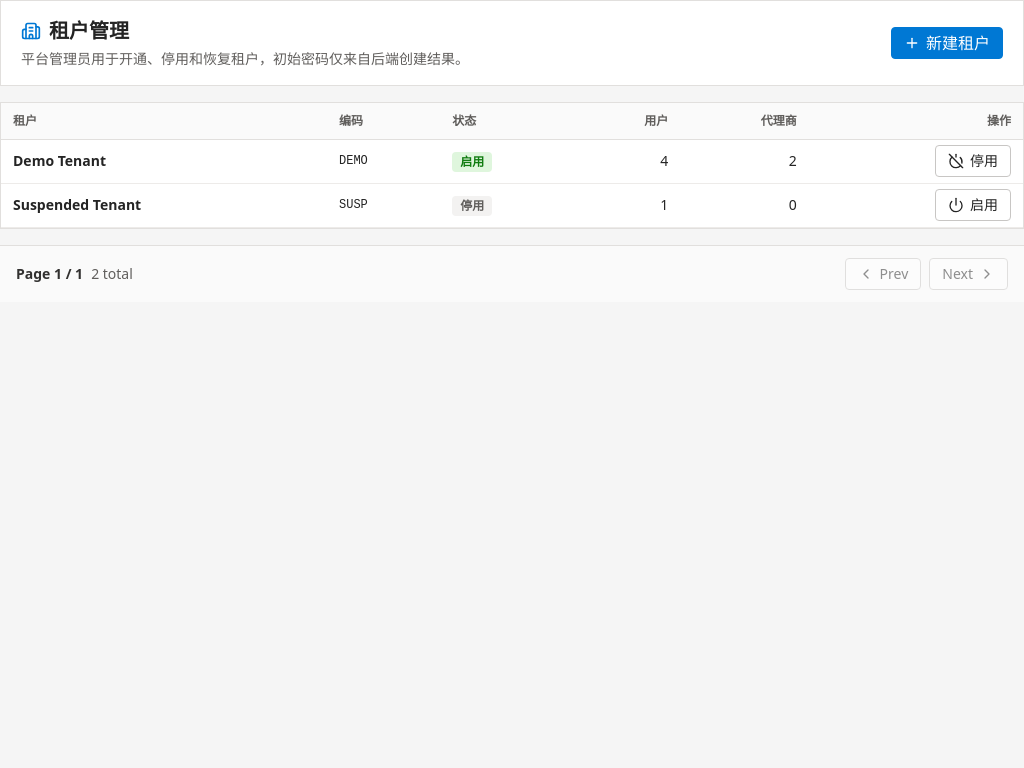
Scenario: TenantManagement › creates a tenant with trimmed payload and shows the generated initial password
expect the text "Demo Tenant" is shown: met, box [1,139,327,183]
Click the button "新建租户" at (947, 43), box [891,27,1003,59]
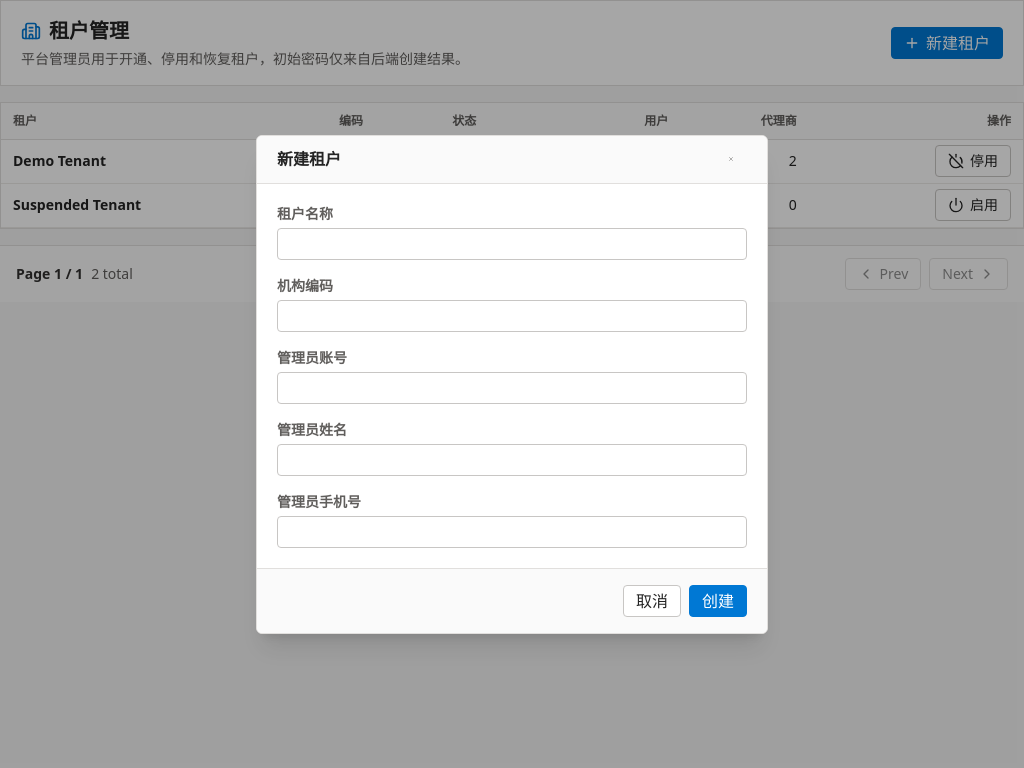
Type " New Tenant " into the field labelled "租户名称" at (512, 244), box [277,228,747,260]
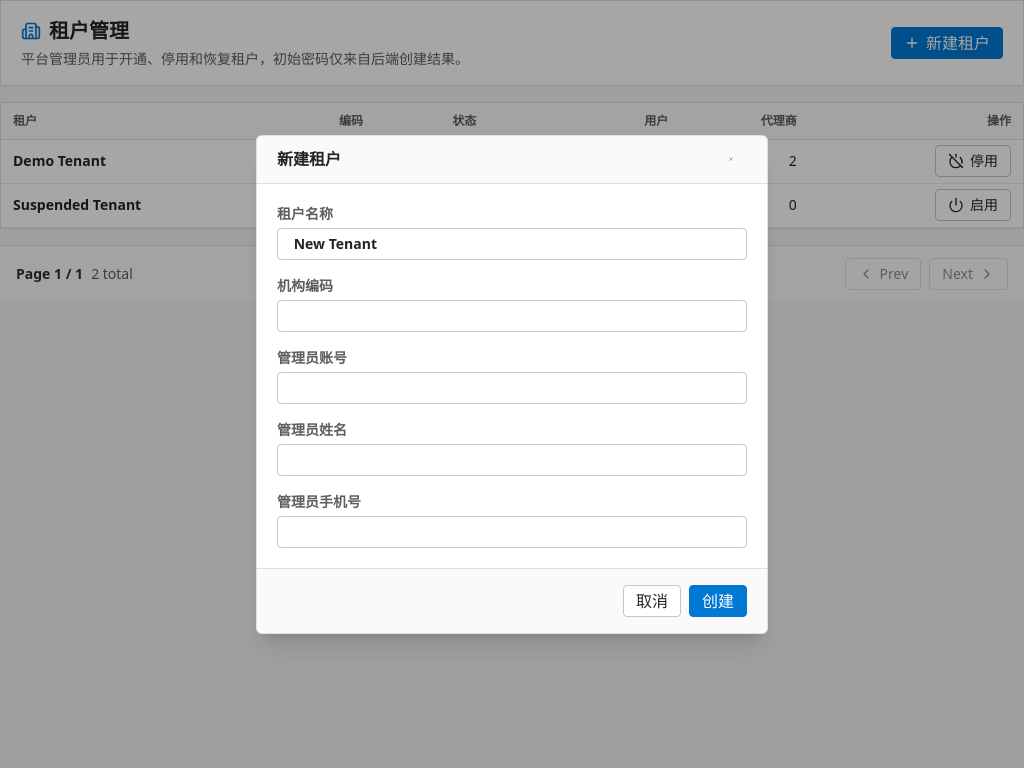
Type " NEW " into the field labelled "机构编码" at (512, 316), box [277,300,747,332]
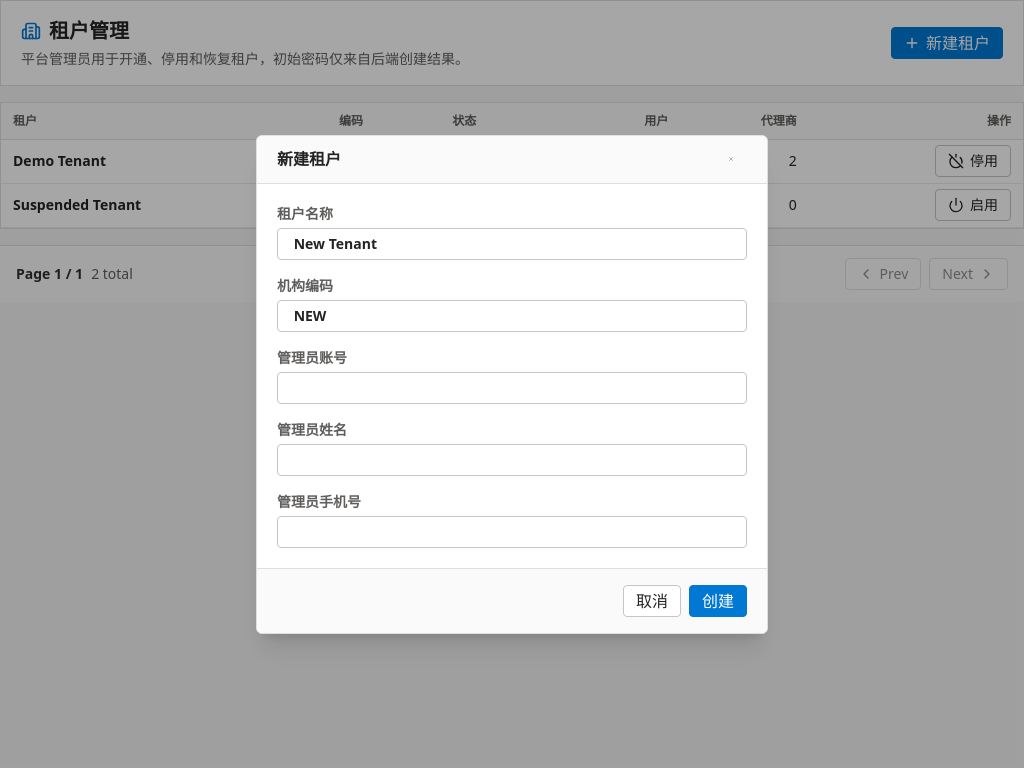
Type " admin " into the field labelled "管理员账号" at (512, 388), box [277,372,747,404]
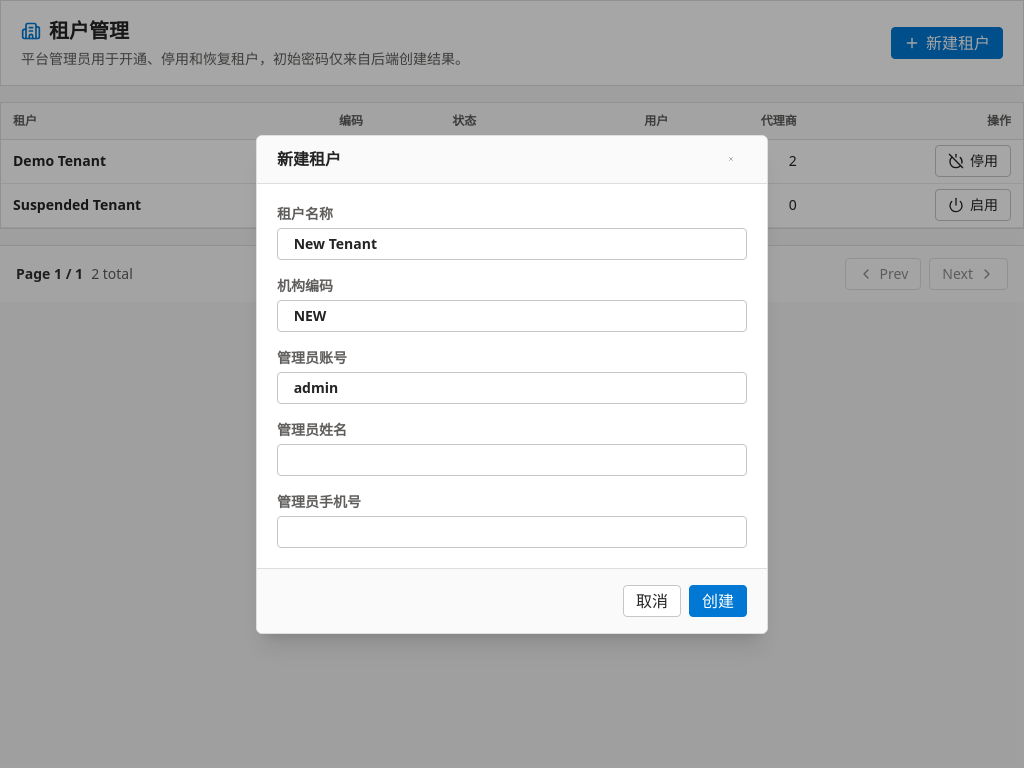
Type " Tenant Admin " into the field labelled "管理员姓名" at (512, 460), box [277,444,747,476]
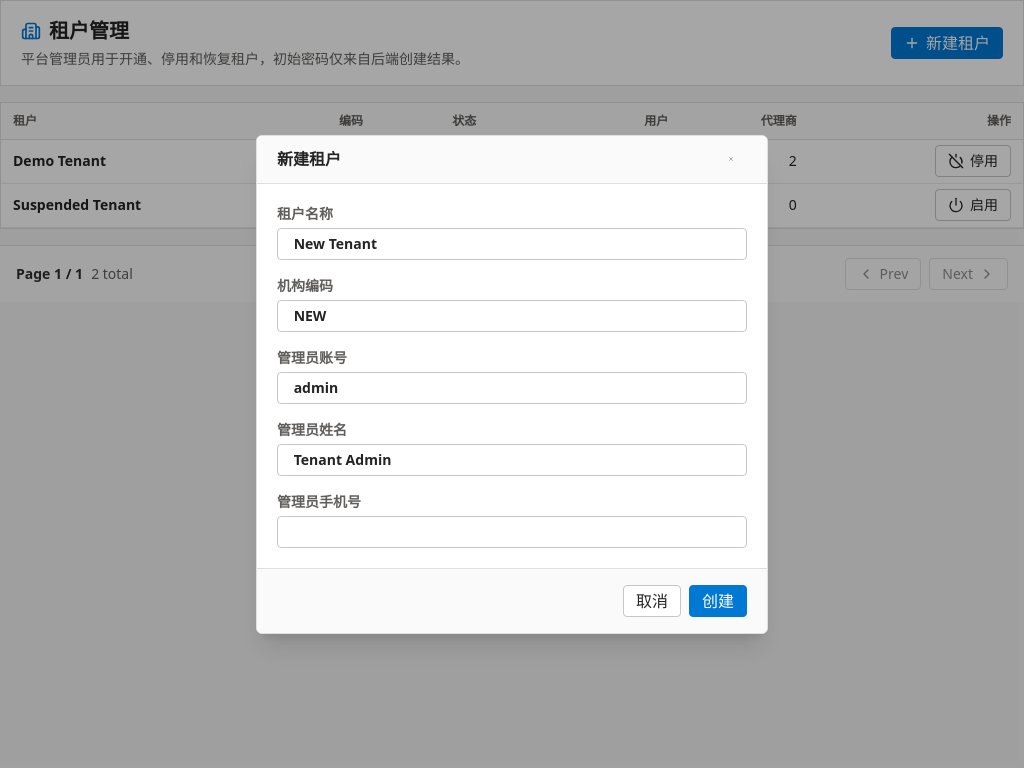
Click the button "创建" at (718, 600), box [689,584,747,616]
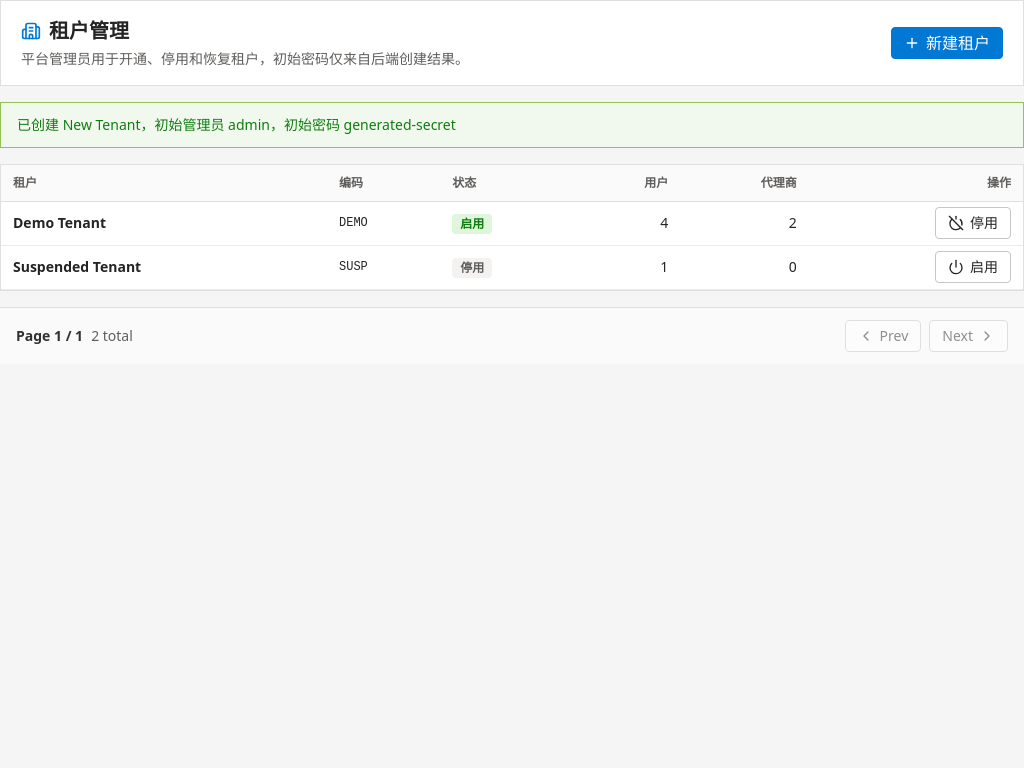
expect the text "已创建 New Tenant，初始管理员 admin，初始密码 generated-secret" is shown: met, box [0,102,1023,148]
